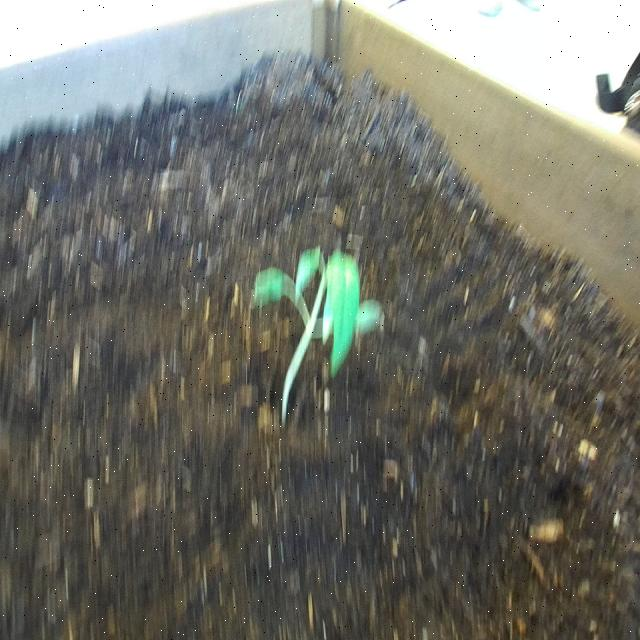Healthy: (238, 228, 402, 446)
